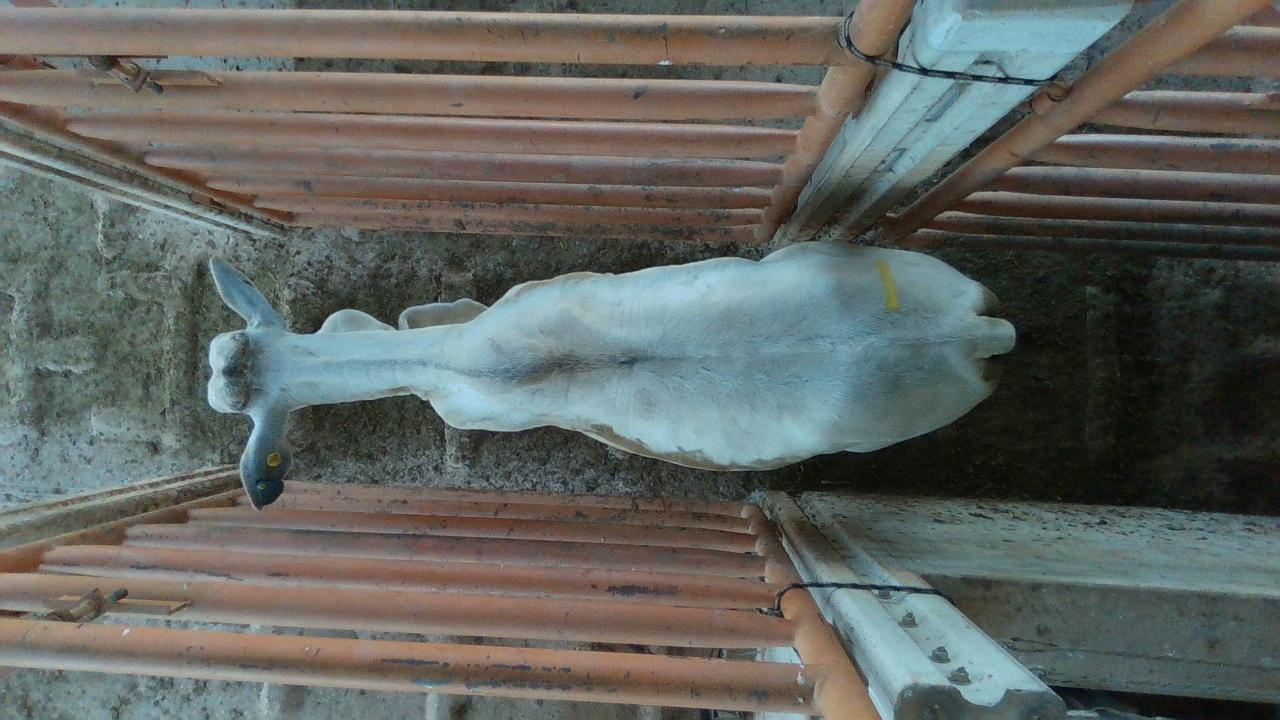cattle: (204, 238, 1017, 511)
